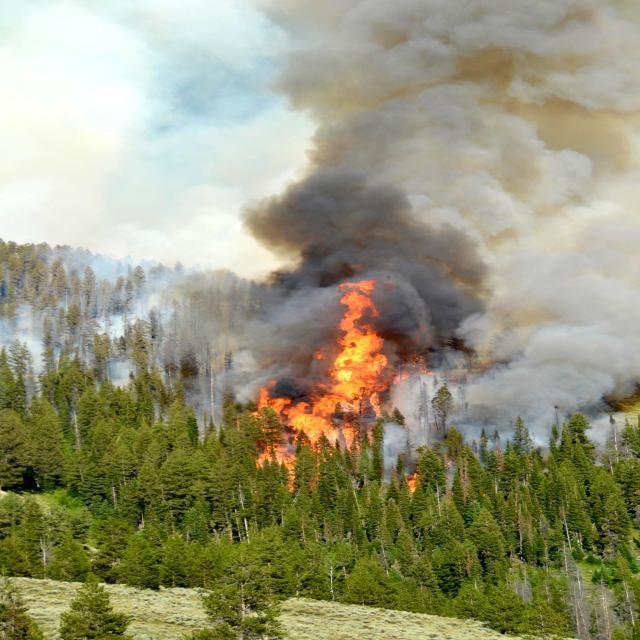Fire: (280, 272, 414, 453)
Smoke: (19, 0, 640, 446)
